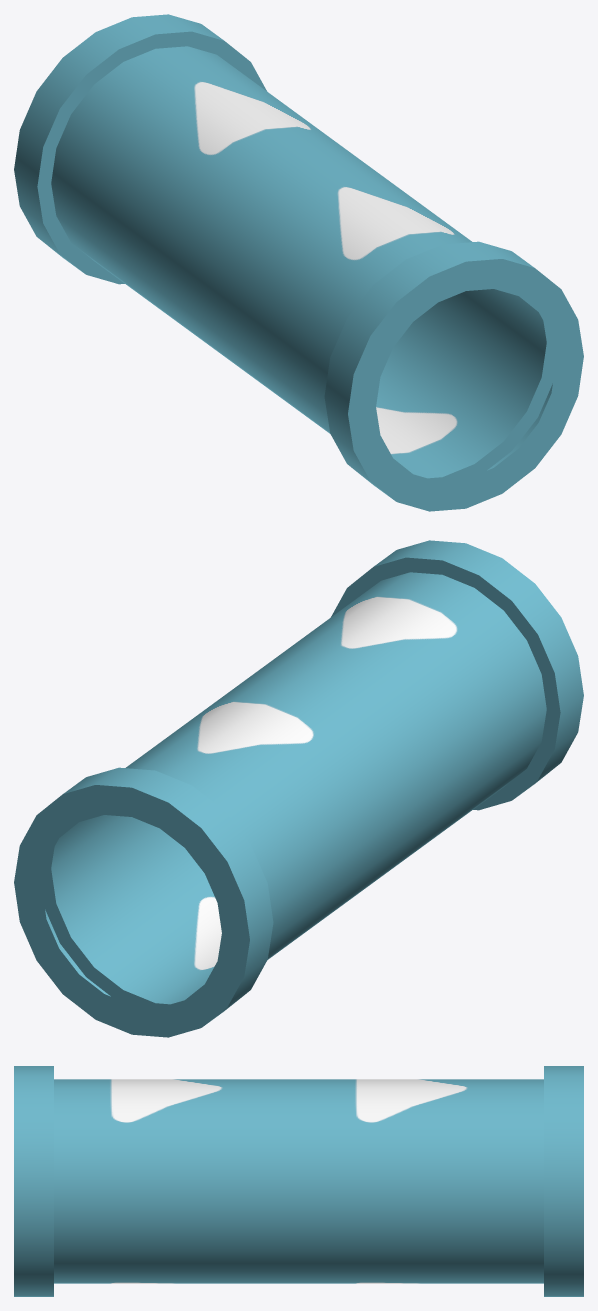
The model's file is SM_StraightPipe.fbx.
3 views of the same model, one above another, from view 1: azimuth 30°, elevation 25°; view 2: azimuth 150°, elevation 25°; view 3: azimuth 270°, elevation 25° (orthographic). The views are drawn at different scales.
Visible parts, largest first — view 1: SM_StraightPipe; view 2: SM_StraightPipe; view 3: SM_StraightPipe.
Part boxes in pixels (x1,y1,x2,y2): SM_StraightPipe: (14, 14, 583, 511); SM_StraightPipe: (14, 540, 583, 1037); SM_StraightPipe: (14, 1066, 583, 1296).
Bounding box in the file's own units: 39.94 × 39.94 × 97.83.
